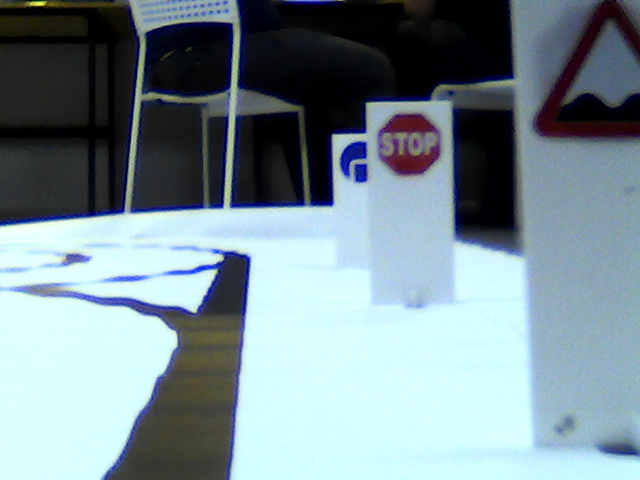Nerov: (529, 1, 640, 152)
Right: (338, 138, 369, 181)
Stop: (375, 112, 443, 178)
